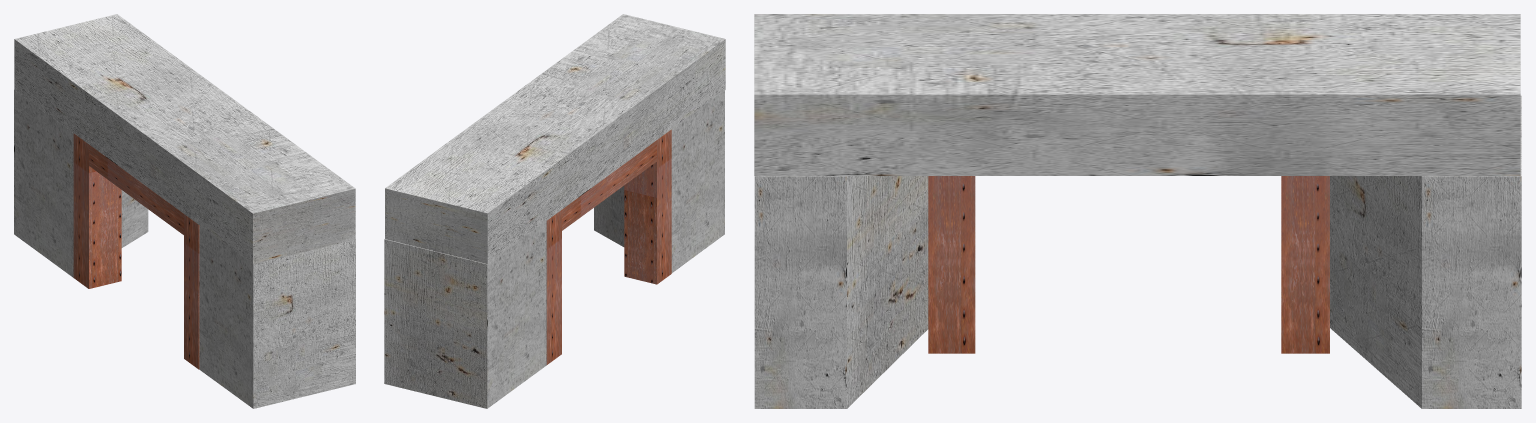
The model's file is Compuerta SIN PUERTA.fbx.
The picture shows the model from 3 angles, left to right: view 1: azimuth 30°, elevation 25°; view 2: azimuth 150°, elevation 25°; view 3: azimuth 270°, elevation 25°; orthographic projection. The views are drawn at different scales.
Visible parts, largest first — view 1: pasted__pasted__pasted__pCube3, pasted__pasted__pCube3 (×2), pasted__pCube3 (×2), pCube3; view 2: pasted__pasted__pasted__pCube3, pasted__pCube3 (×2), pasted__pasted__pCube3 (×2), pCube3; view 3: pasted__pasted__pasted__pCube3, pasted__pCube3 (×2), pasted__pasted__pCube3, pCube3.
Part boxes in pixels (bbox=[...]): pasted__pasted__pasted__pCube3: bbox=[14, 14, 355, 264]; pasted__pasted__pCube3 (×2): bbox=[89, 144, 355, 408]; pasted__pCube3 (×2): bbox=[14, 90, 199, 369]; pCube3: bbox=[73, 133, 121, 288]; pasted__pasted__pasted__pCube3: bbox=[385, 14, 725, 263]; pasted__pCube3 (×2): bbox=[384, 129, 671, 408]; pasted__pasted__pCube3 (×2): bbox=[562, 90, 724, 272]; pCube3: bbox=[546, 210, 561, 364]; pasted__pasted__pasted__pCube3: bbox=[754, 14, 1520, 175]; pasted__pCube3 (×2): bbox=[928, 95, 1521, 408]; pasted__pasted__pCube3: bbox=[754, 176, 928, 408]; pCube3: bbox=[1281, 176, 1329, 353].
Bounding box in the file's own units: 11.04 × 20 × 44.29.
2 materials, 2 textured.
